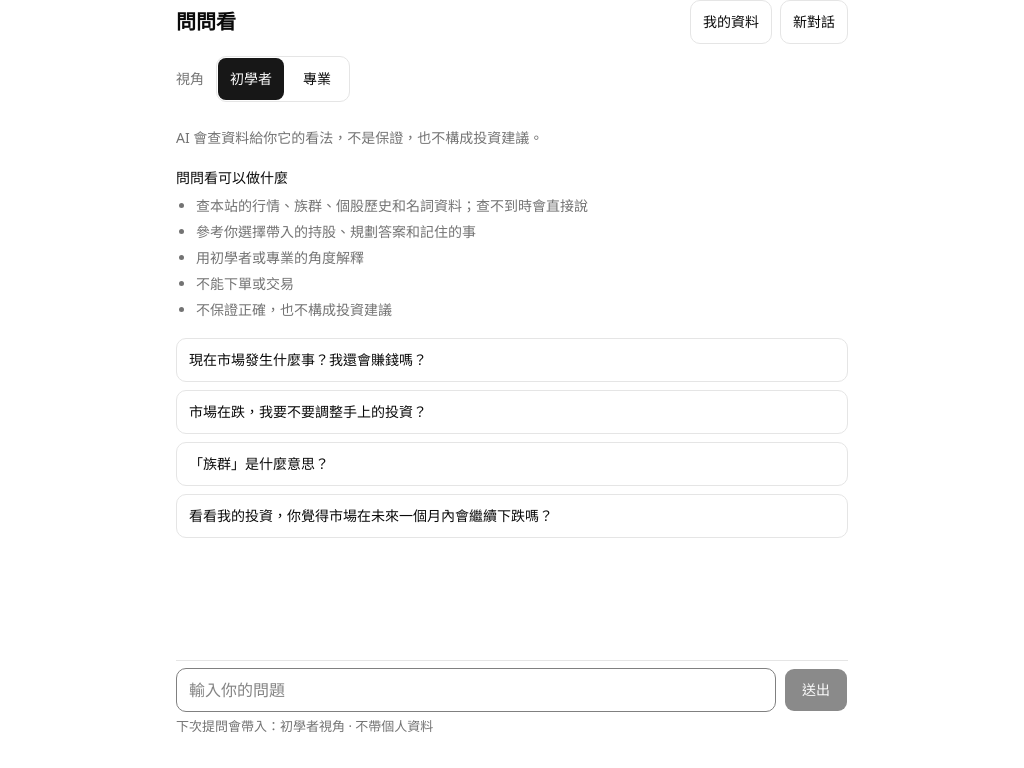
Test case: my-data sheet › announces the summary politely and the cleared state as a status
The width and height of the screenshot is (1024, 768).
Click the button "我的資料" at {"x": 731, "y": 22}, box 690,0 -> 772,44
(page scrolled)
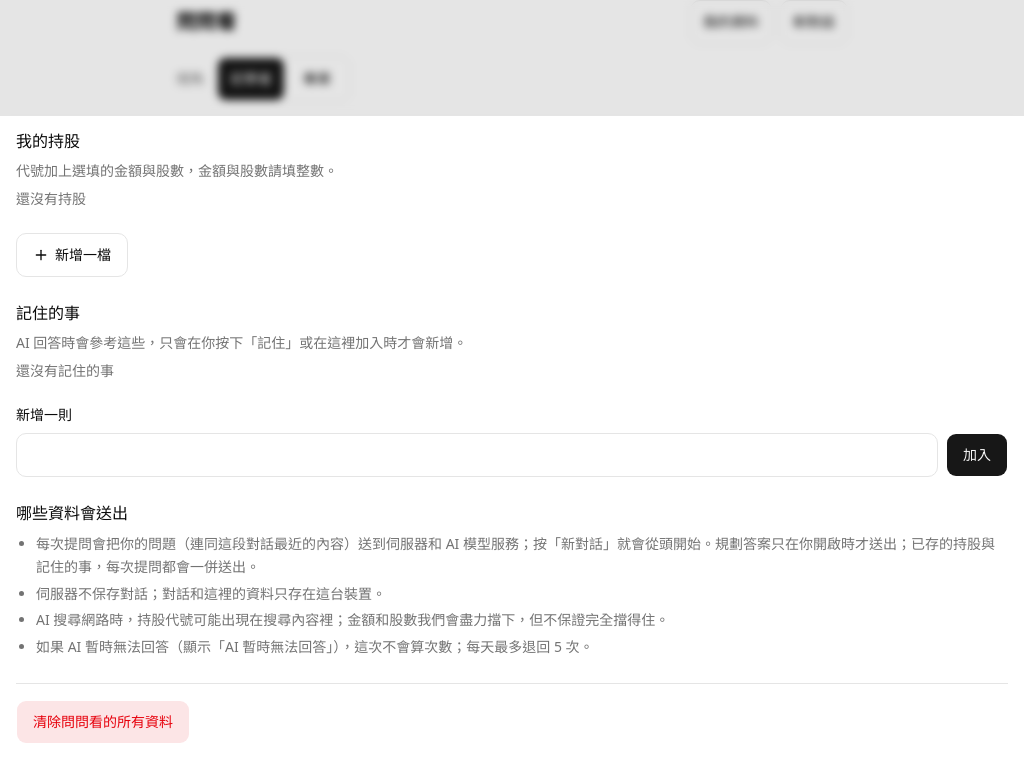
Click the button "清除問問看的所有資料" at {"x": 103, "y": 722}, box 16,700 -> 190,744
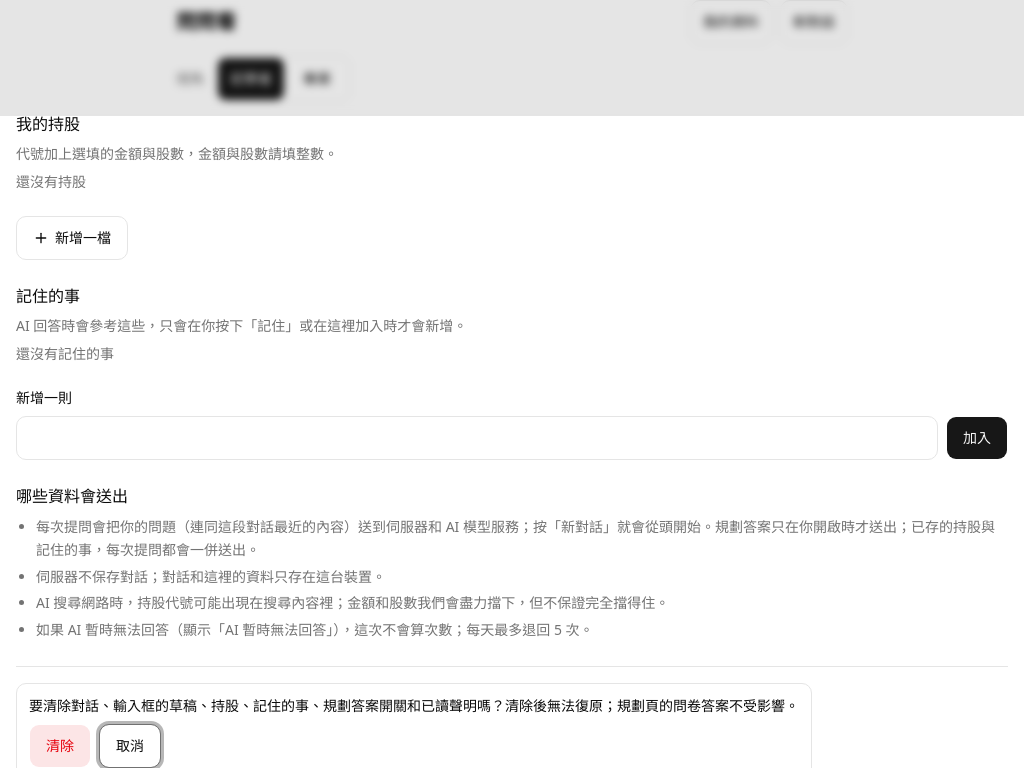
Click the button "清除" at {"x": 60, "y": 746}, box 29,724 -> 91,767
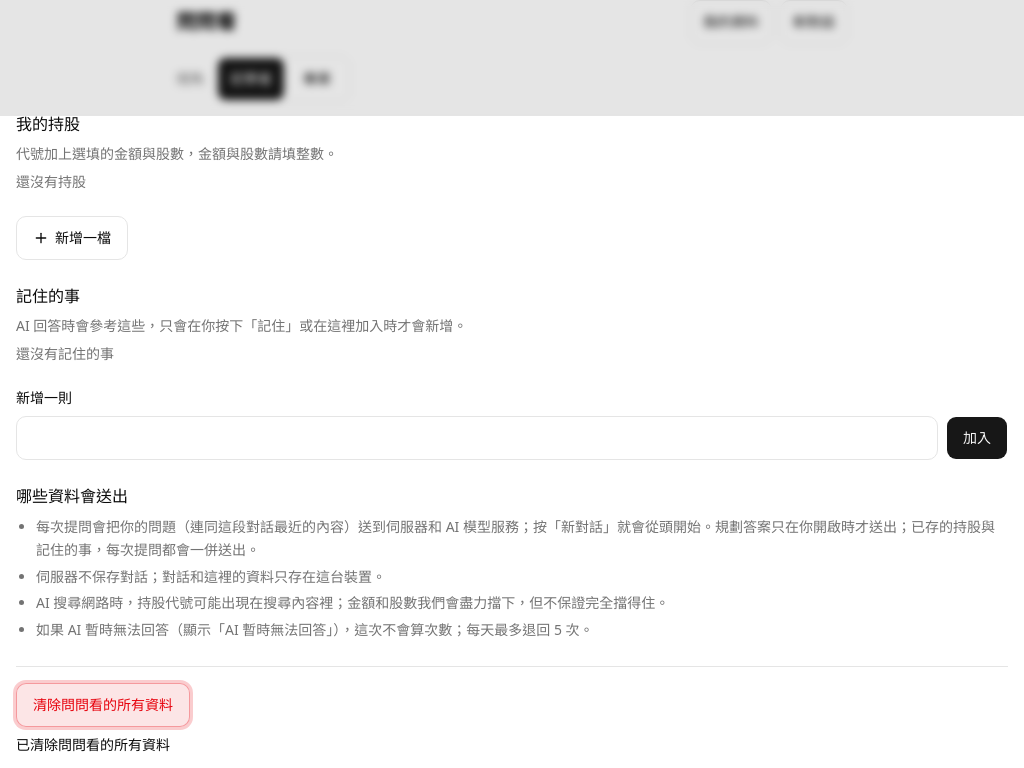
Expected: the message reads "已清除問問看的所有資料", 16,735 -> 170,754
